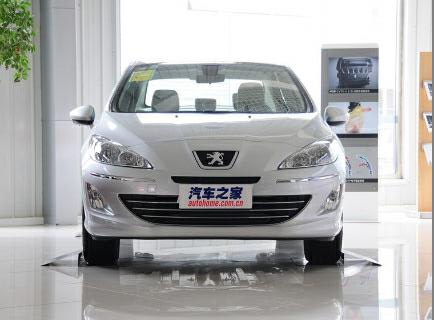东风标致-408: (68, 56, 353, 267)
